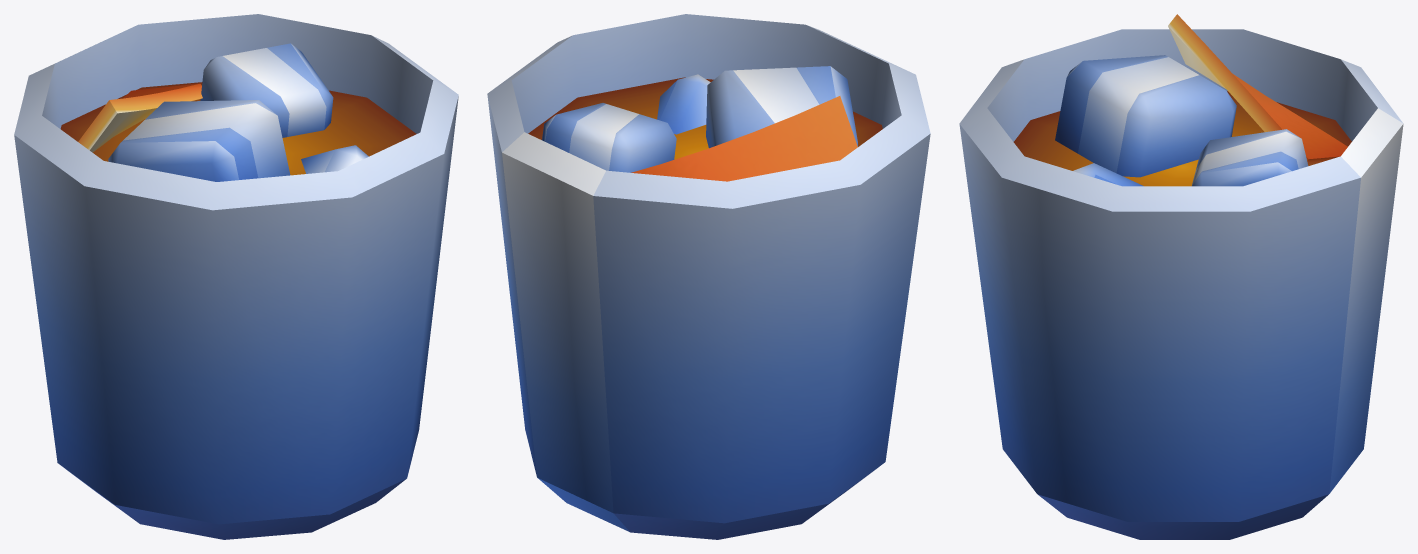
File: m_StrongCocktail01.fbx
3 views of the same model, side by side, from view 1: azimuth 30°, elevation 25°; view 2: azimuth 150°, elevation 25°; view 3: azimuth 270°, elevation 25° (orthographic). The views are drawn at different scales.
Parts seen in each view (by area): view 1: m_StrongCocktail01; view 2: m_StrongCocktail01; view 3: m_StrongCocktail01.
Part boxes in pixels (bbox=[...]): m_StrongCocktail01: bbox=[14, 14, 458, 539]; m_StrongCocktail01: bbox=[487, 14, 930, 539]; m_StrongCocktail01: bbox=[959, 14, 1403, 539].
Size of the model in its own units: 12.35 by 13.01 by 12.98.
